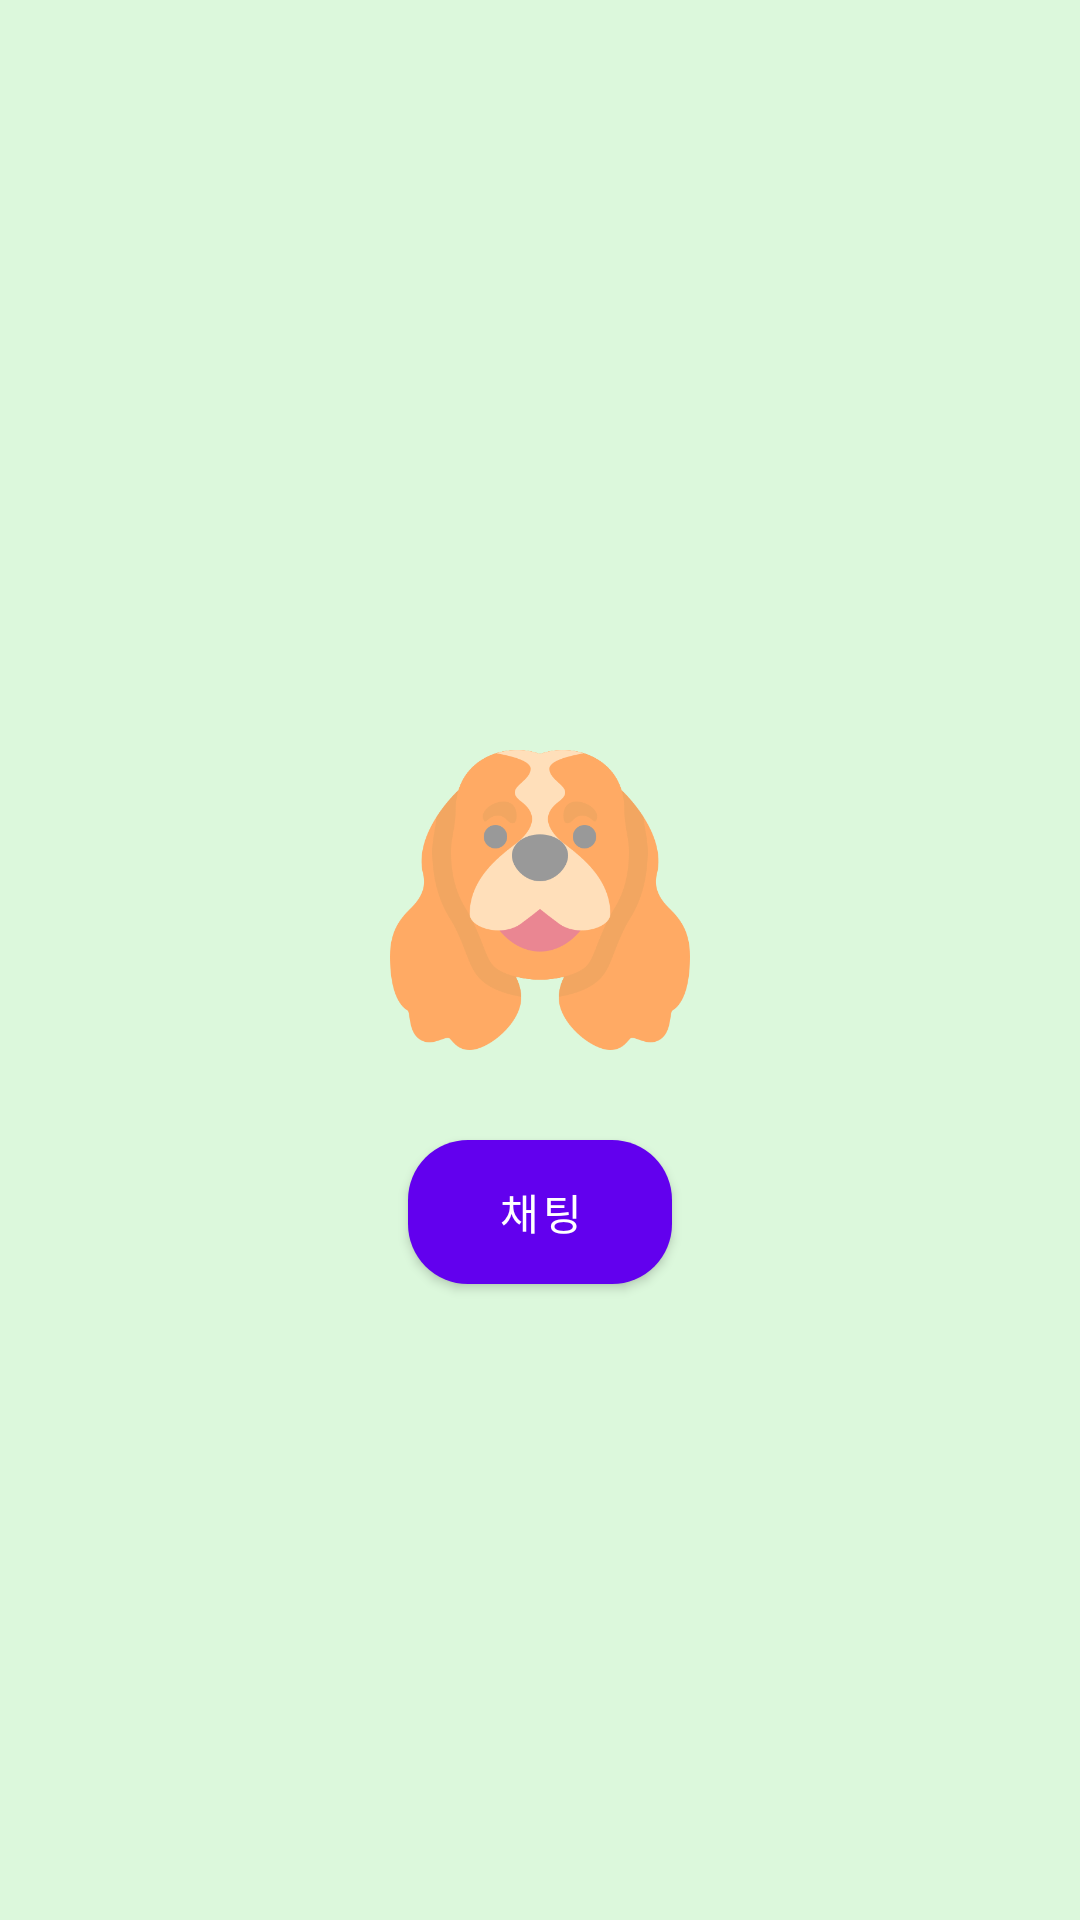

Point at icon controls on the screen. Image size 1080 x 1920, points as (x,y).
cocker spaniel: (540,900)
